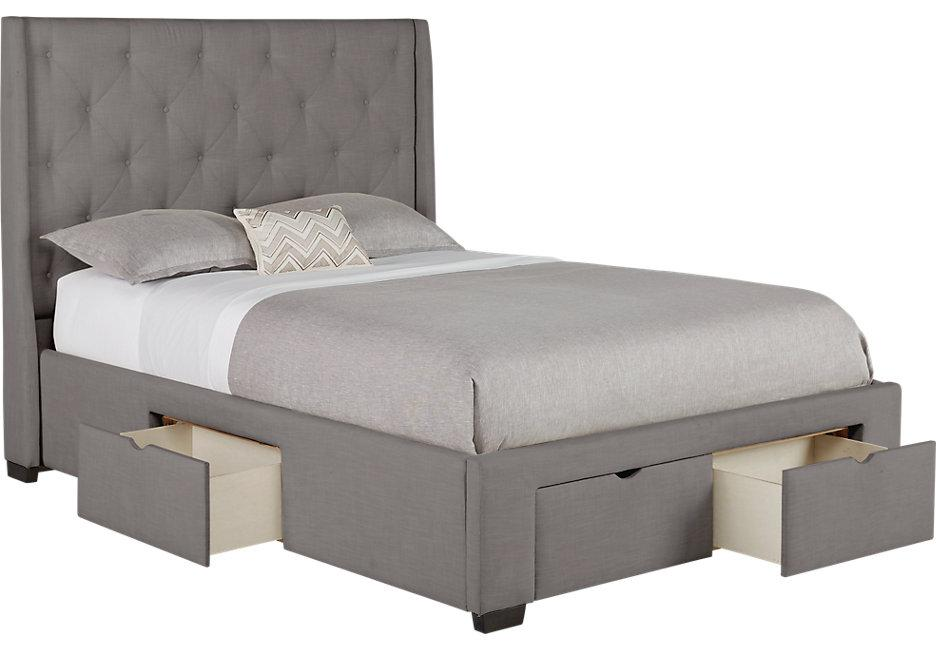bed: (10, 12, 914, 650)
